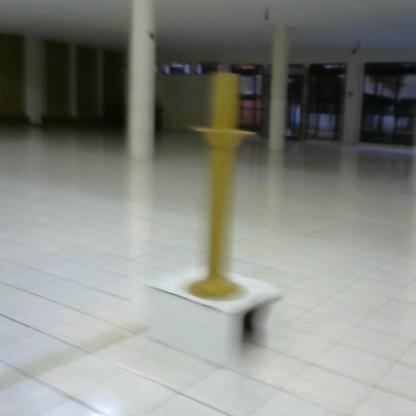pole: (186, 69, 265, 305)
